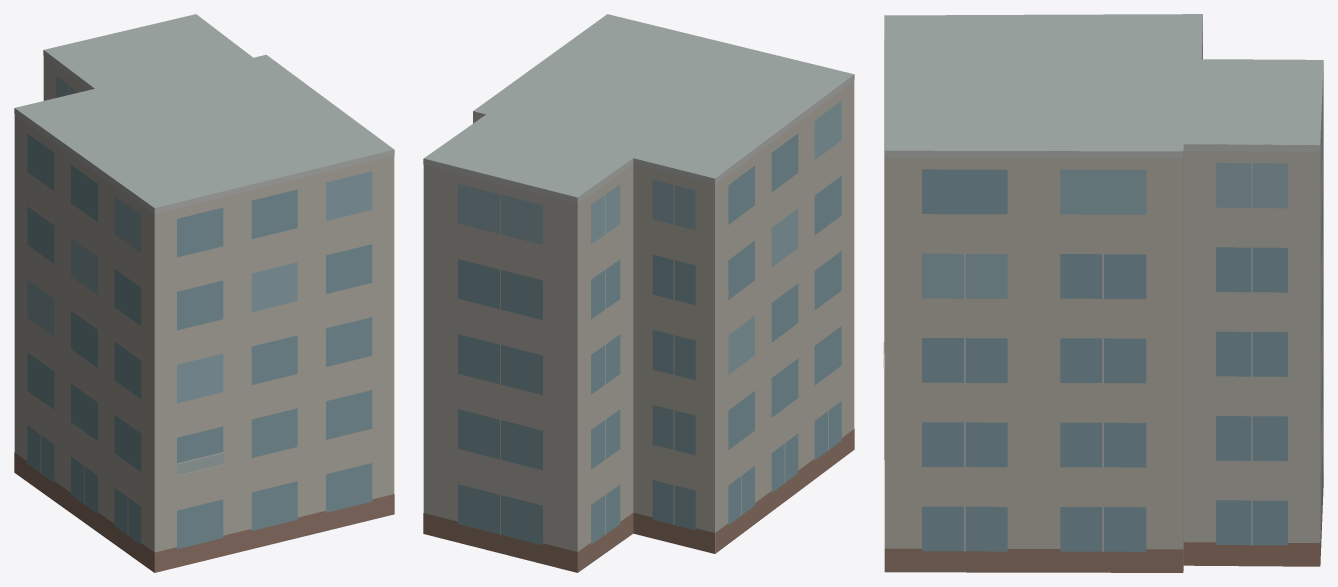
Rendered from survey-upis-33013626.glb.
3 views of the same model, side by side, from view 1: azimuth 30°, elevation 25°; view 2: azimuth 150°, elevation 25°; view 3: azimuth 270°, elevation 25° (orthographic). The views are drawn at different scales.
Parts seen in each view (by area): view 1: survey-upis-33013626.tmp; view 2: survey-upis-33013626.tmp; view 3: survey-upis-33013626.tmp.
Part boxes in pixels (left/top/right/bottom): survey-upis-33013626.tmp: left=14, top=14, right=394, bottom=572; survey-upis-33013626.tmp: left=423, top=14, right=854, bottom=572; survey-upis-33013626.tmp: left=883, top=14, right=1323, bottom=572.
Size of the model in its own units: 10.42 by 14.9 by 14.11.
